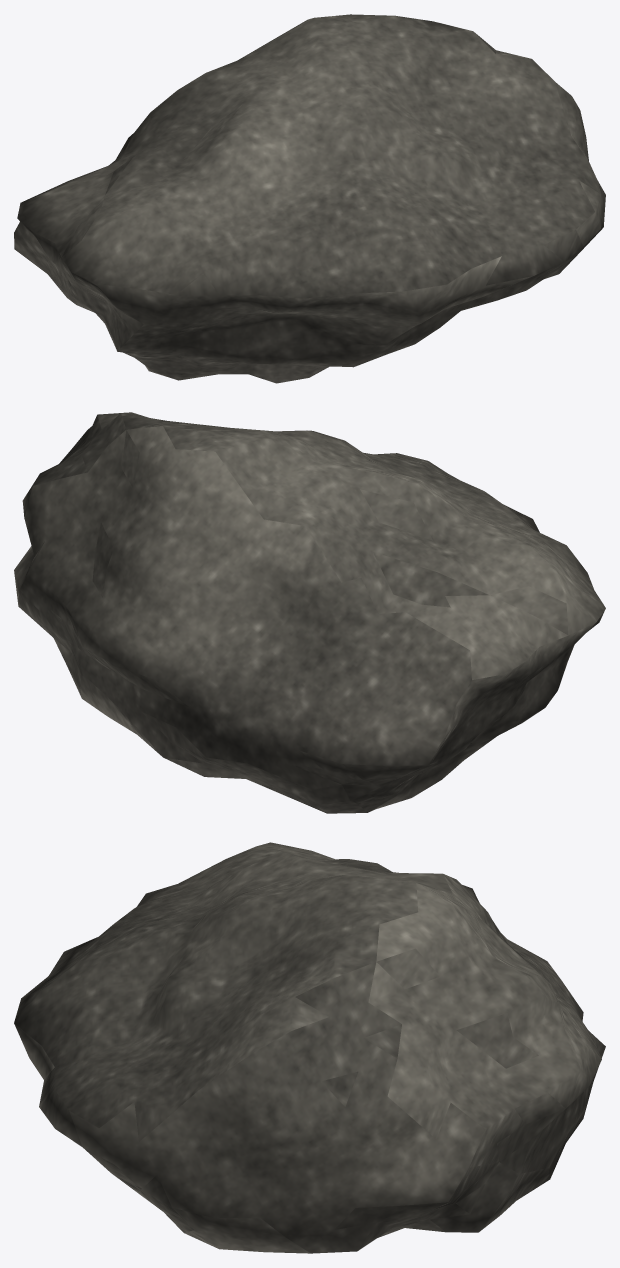
Rendered from BoulderTall.glb.
3 views of the same model, one above another, from view 1: azimuth 30°, elevation 25°; view 2: azimuth 150°, elevation 25°; view 3: azimuth 270°, elevation 25° (orthographic). The views are drawn at different scales.
Visible parts, largest first — view 1: BoulderTallVisual; view 2: BoulderTallVisual; view 3: BoulderTallVisual.
Boxes of the visible parts, x1,y1,x2,y2 form: BoulderTallVisual: (14,14,605,383); BoulderTallVisual: (14,412,605,813); BoulderTallVisual: (14,842,605,1253).
Size of what is drawn, in the model's own units: 3.09 by 1.74 by 2.6.
Materials: 1 (1 with a texture image).
